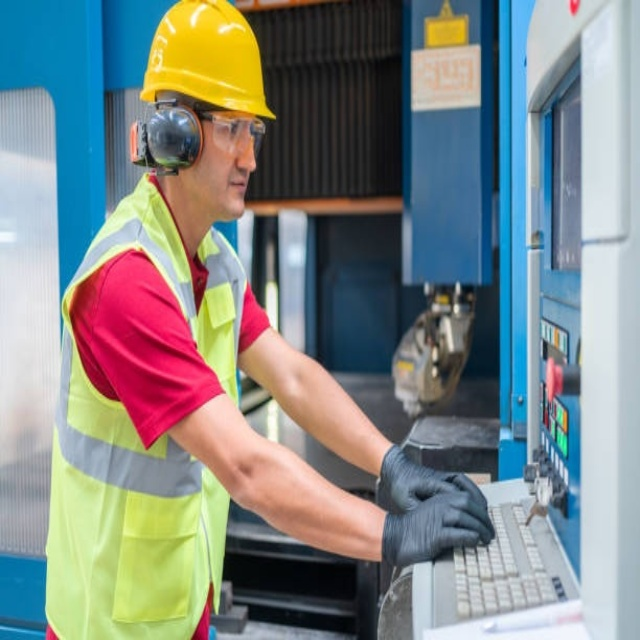Gafas: (198, 105, 269, 157)
Guantes: (374, 444, 495, 571)
Sin_mascara: (223, 174, 250, 215)
